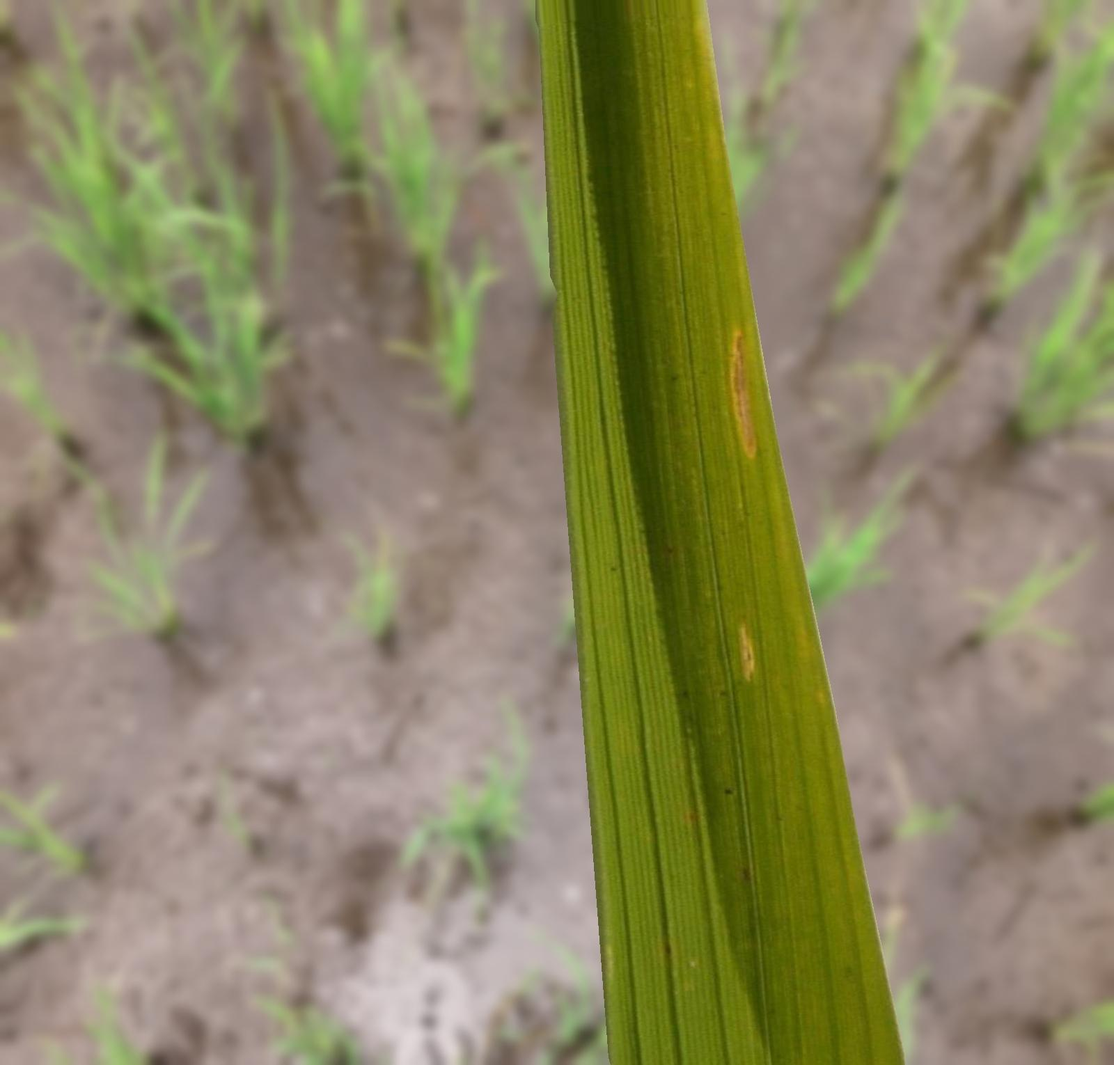BLS: (730, 331, 756, 457)
LEAF: (535, 0, 904, 1064)
